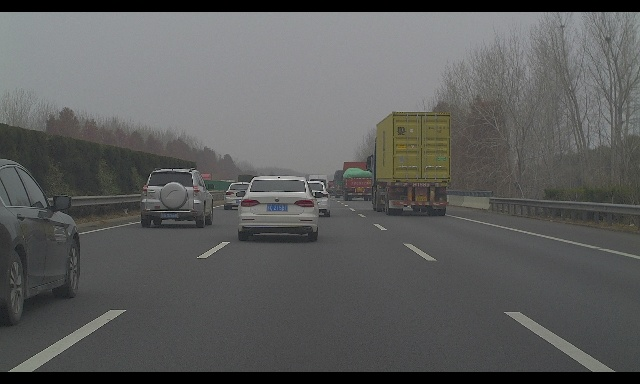car: (0, 159, 80, 325), (236, 176, 324, 241), (140, 168, 215, 228), (295, 181, 333, 217), (223, 182, 258, 210), (308, 174, 331, 197)
truck: (366, 112, 452, 215), (341, 161, 379, 201), (333, 170, 353, 198), (198, 173, 220, 189), (328, 181, 340, 196)
